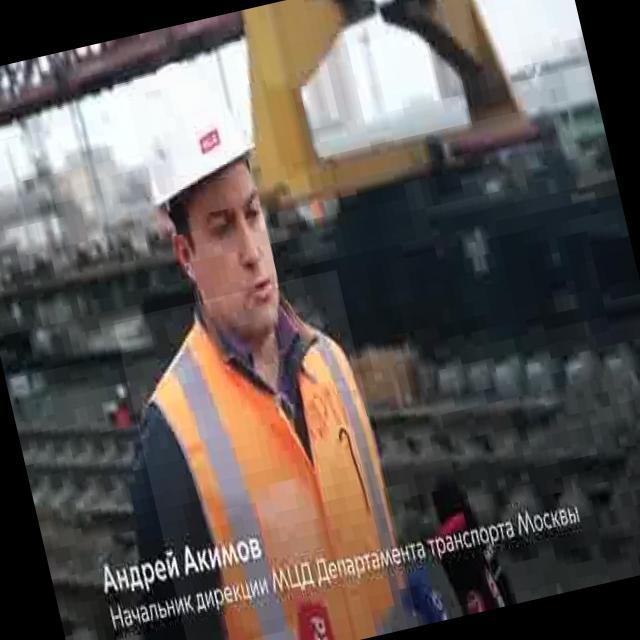Helmet: (124, 55, 266, 214)
Safety Vest: (113, 269, 418, 640)
